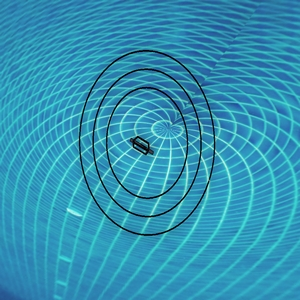circle: (70, 35, 227, 242)
